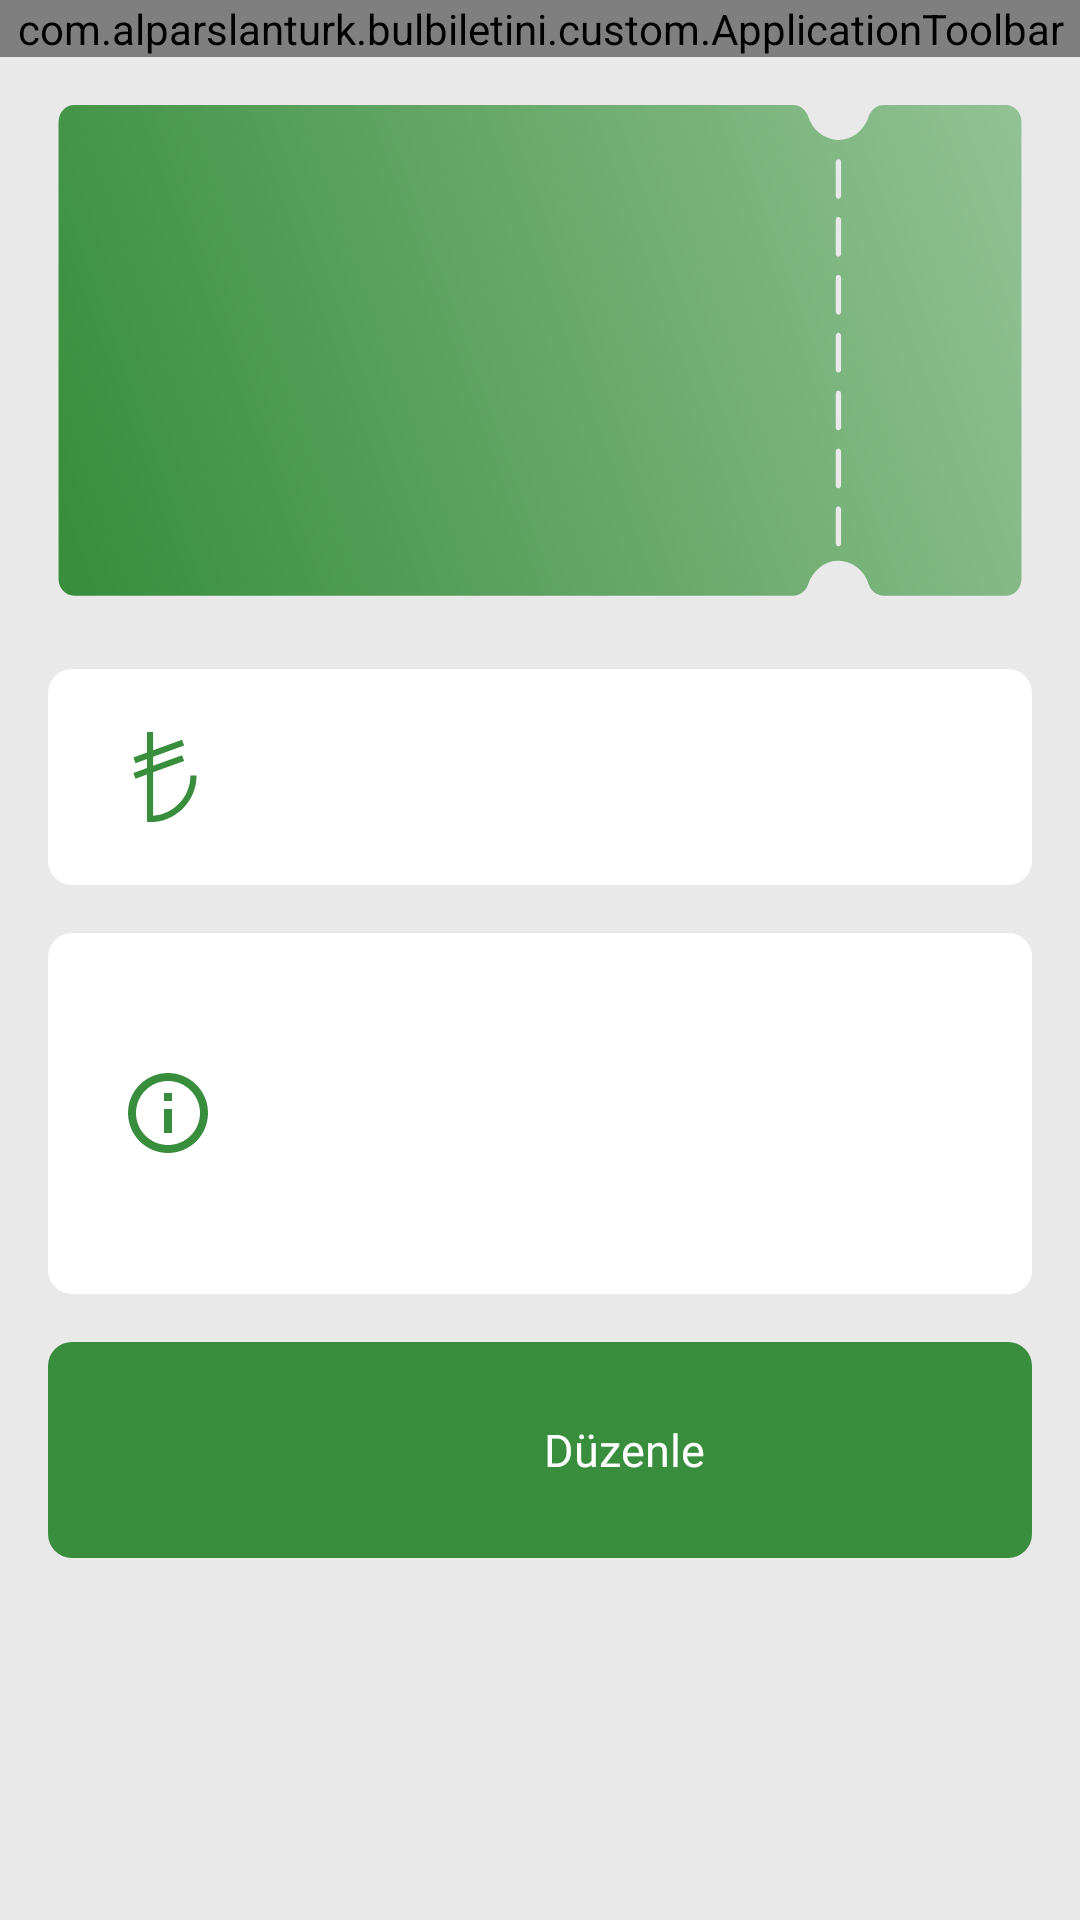

Icon bounding boxes for this 1080px x 1920px phone screenshot, format region(x1, y1, x2, y2):
info: region(128, 1073, 208, 1153)
turkish lira: region(133, 732, 197, 822)
